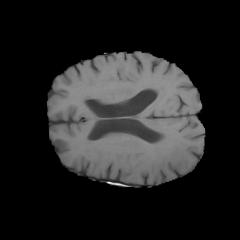glioma: (152, 134, 187, 172)
